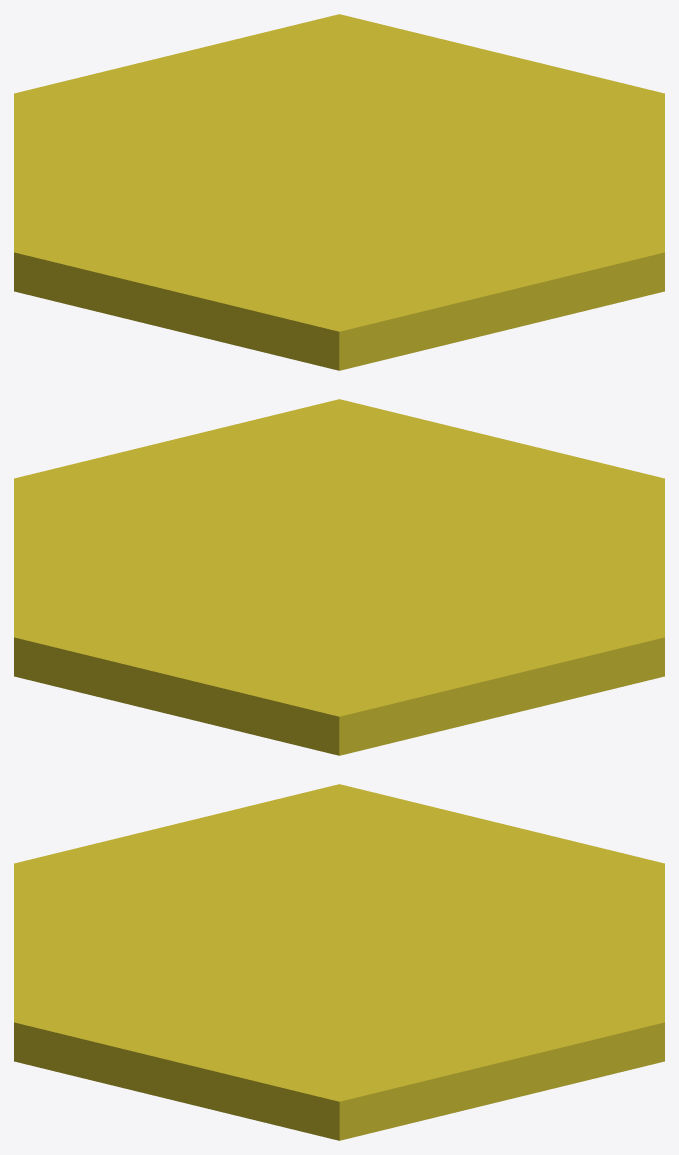
Rendered from lb_coin.fbx.
3 views of the same model, one above another, from view 1: azimuth 30°, elevation 25°; view 2: azimuth 150°, elevation 25°; view 3: azimuth 270°, elevation 25° (orthographic).
Visible parts, largest first — view 1: pCylinder1; view 2: pCylinder1; view 3: pCylinder1.
Boxes of the visible parts, x1=… form: pCylinder1: x1=14, y1=14, x2=664, y2=370; pCylinder1: x1=14, y1=399, x2=664, y2=755; pCylinder1: x1=14, y1=784, x2=664, y2=1140.
Size of the model in its own units: 13.1 by 0.7513 by 11.34.
